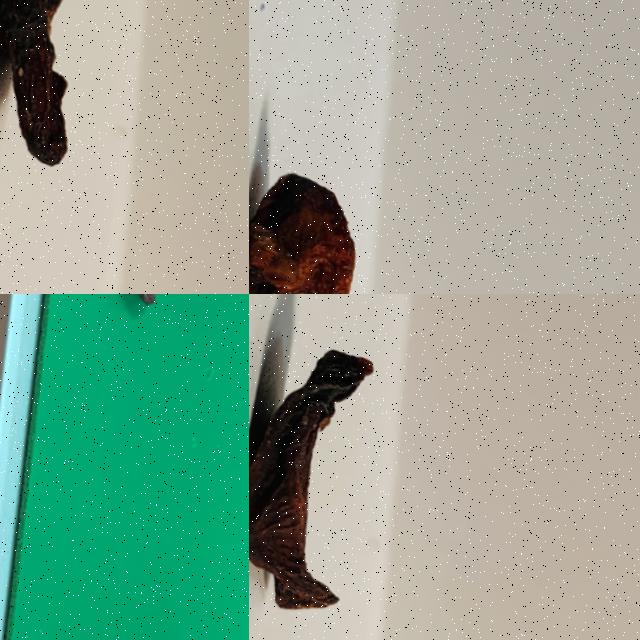Flat_cocoabeans: (249, 294, 394, 639), (0, 0, 173, 224), (249, 72, 387, 293), (51, 294, 215, 410)
